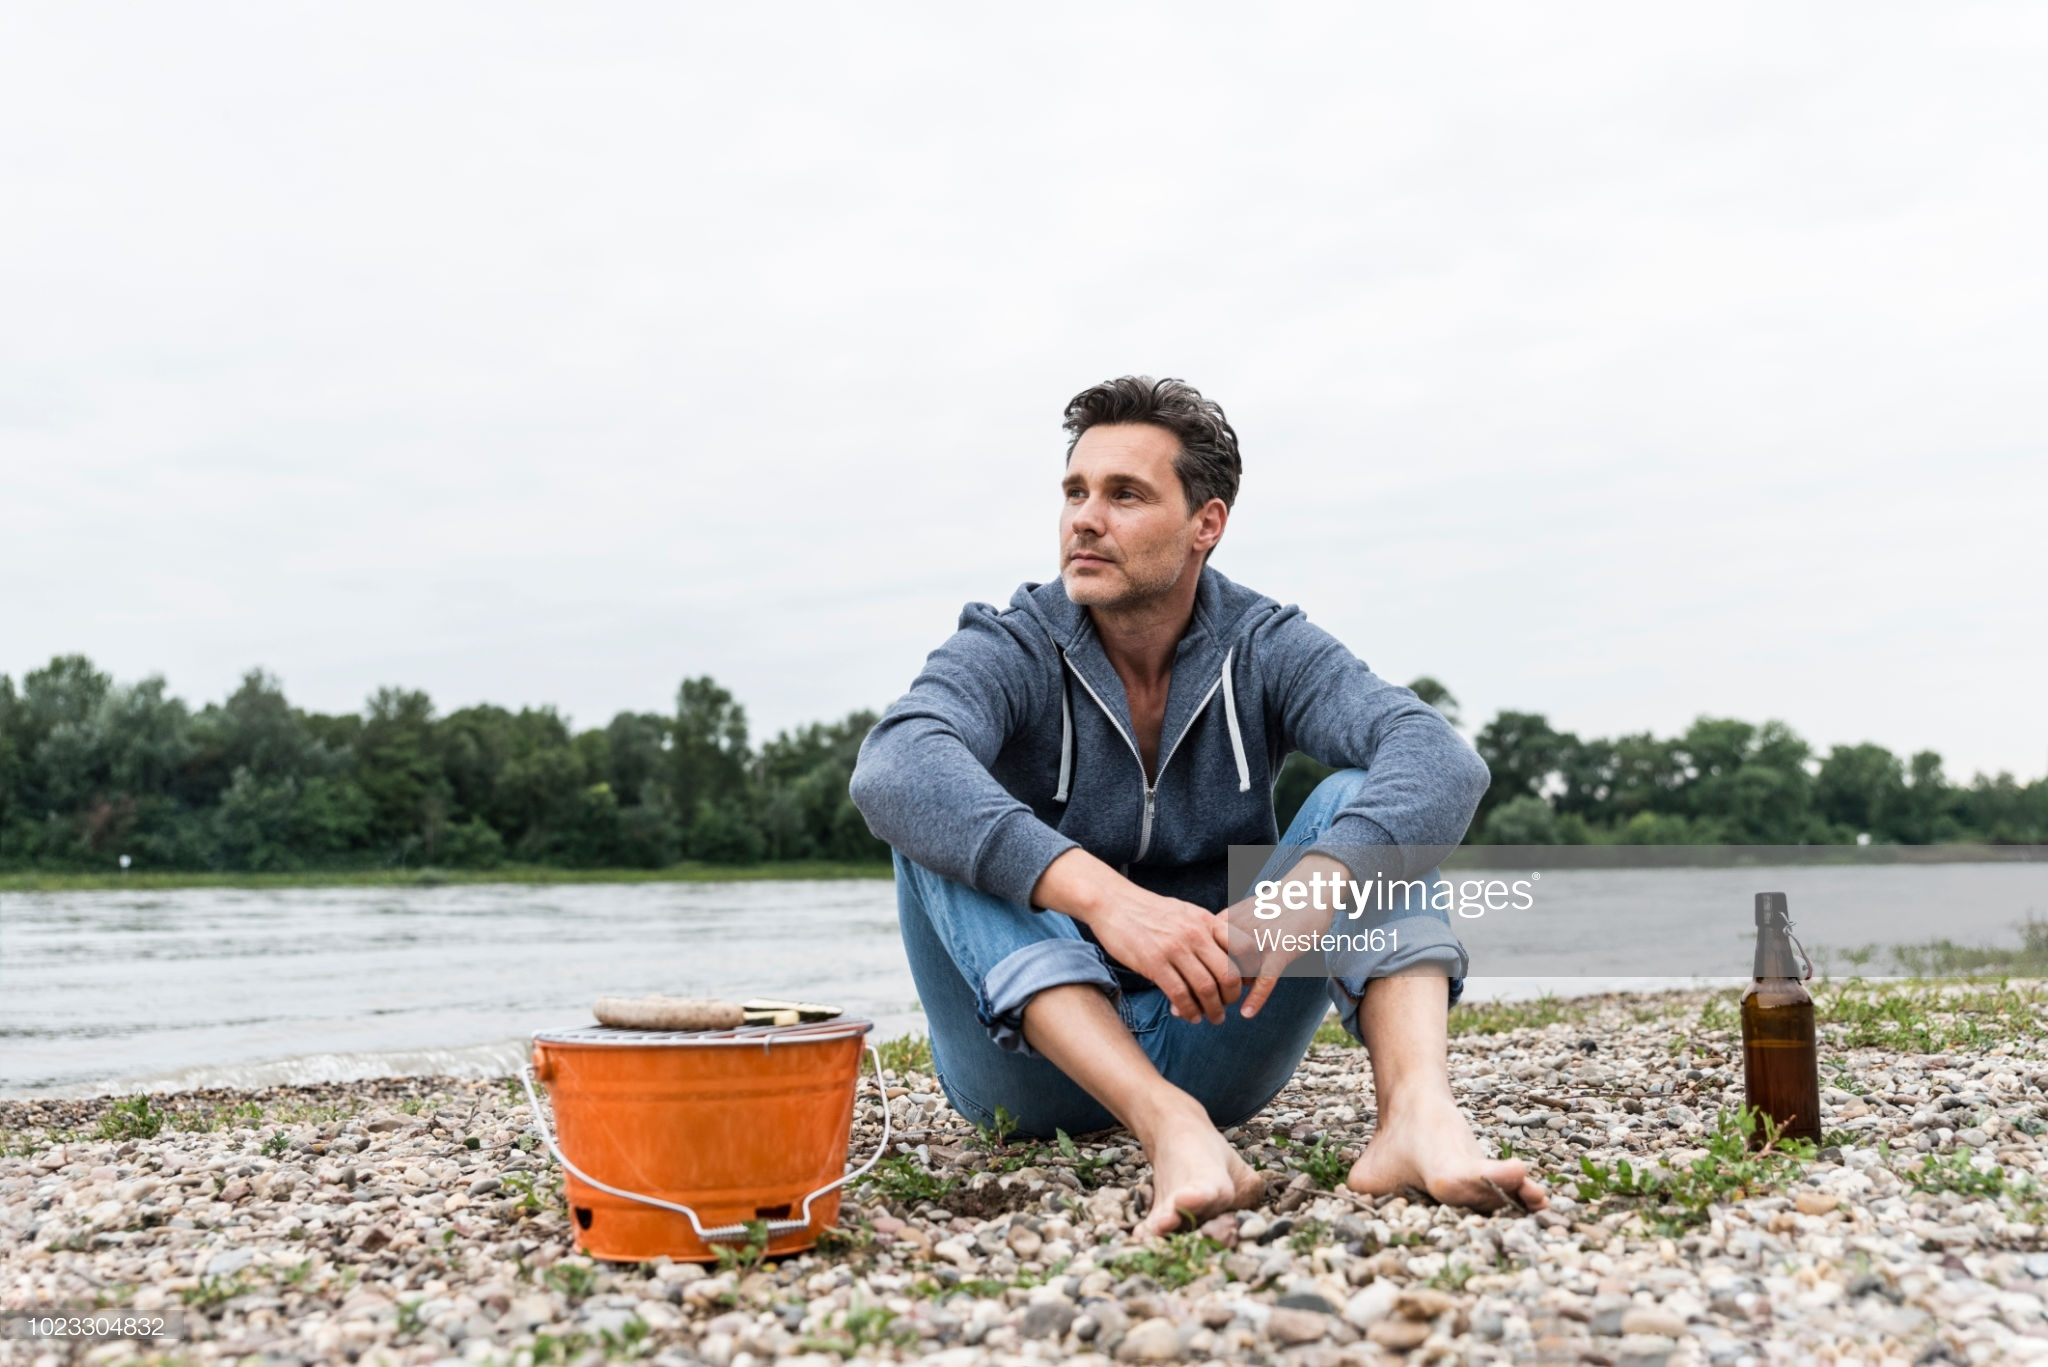beerBottle: (1748, 888, 1833, 1153)
